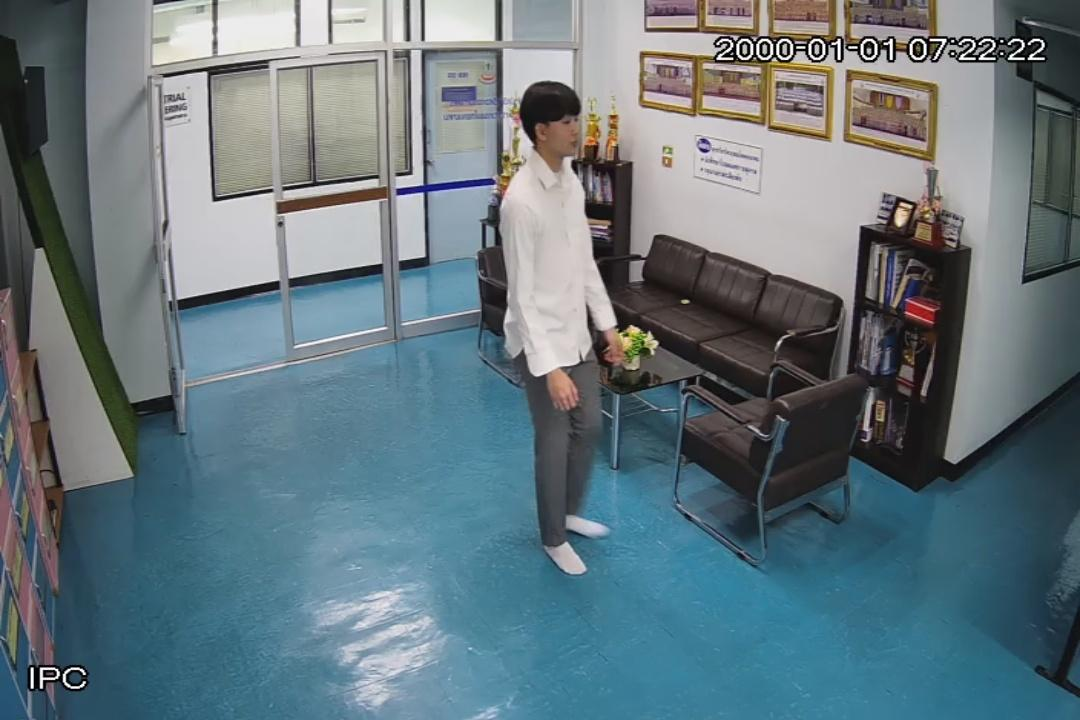normal: (492, 78, 622, 588)
